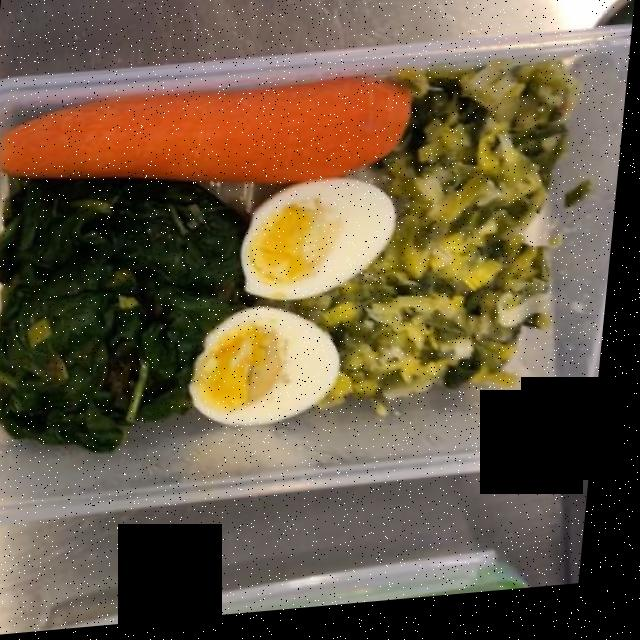carrot-raw: (1, 87, 387, 185)
egg: (200, 173, 412, 435)
